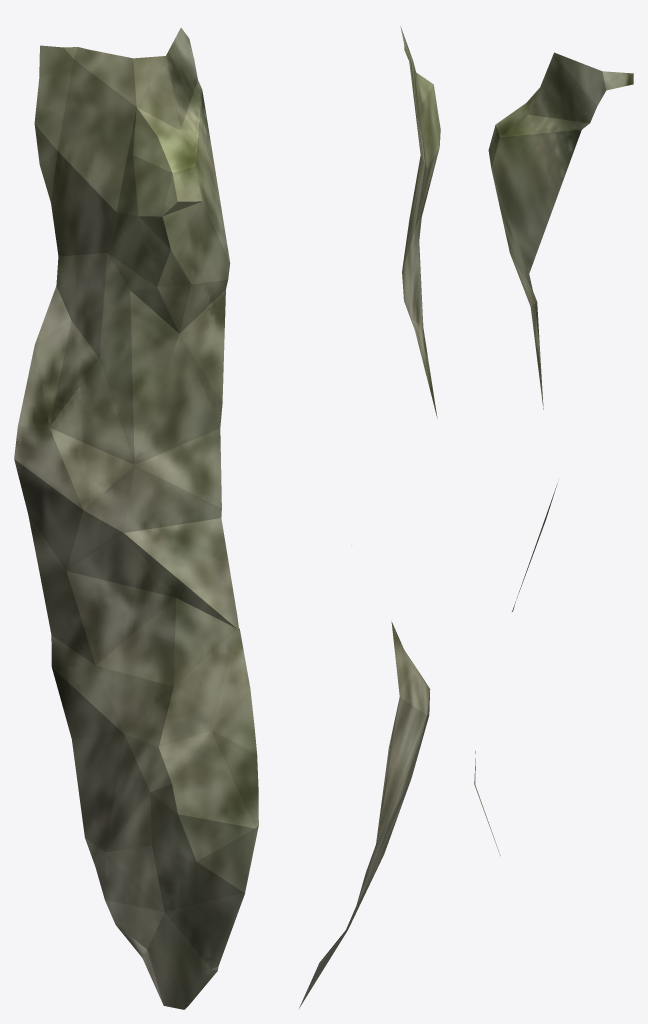
3 views of the same model, side by side, from view 1: azimuth 30°, elevation 25°; view 2: azimuth 150°, elevation 25°; view 3: azimuth 270°, elevation 25° (orthographic). The views are drawn at different scales.
Size of the model in its own units: 0.501 by 2.95 by 0.4559.
1 material, 1 textured.
